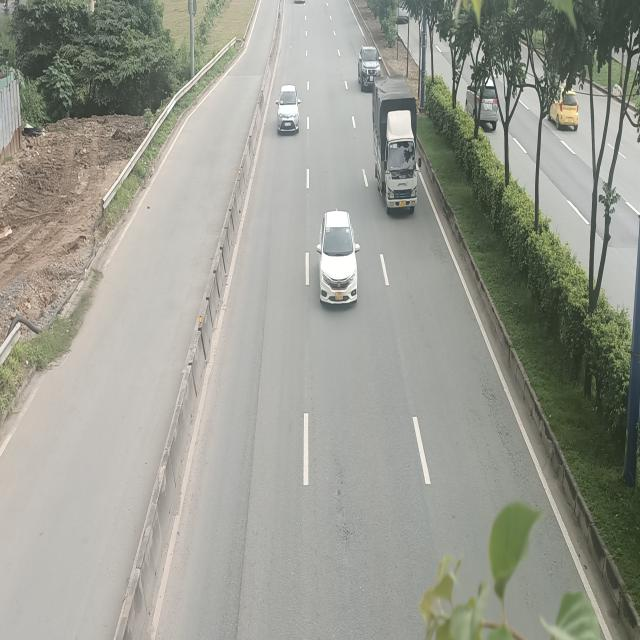car: (318, 209, 362, 305), (277, 85, 301, 135), (358, 46, 382, 92)
truck: (374, 78, 422, 214)
